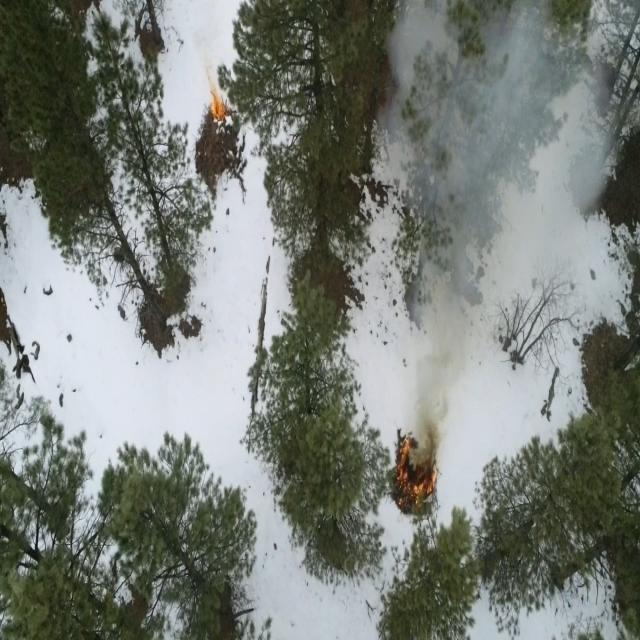Fire: (390, 424, 444, 516), (199, 56, 235, 125)
Smoke: (388, 3, 614, 446)
